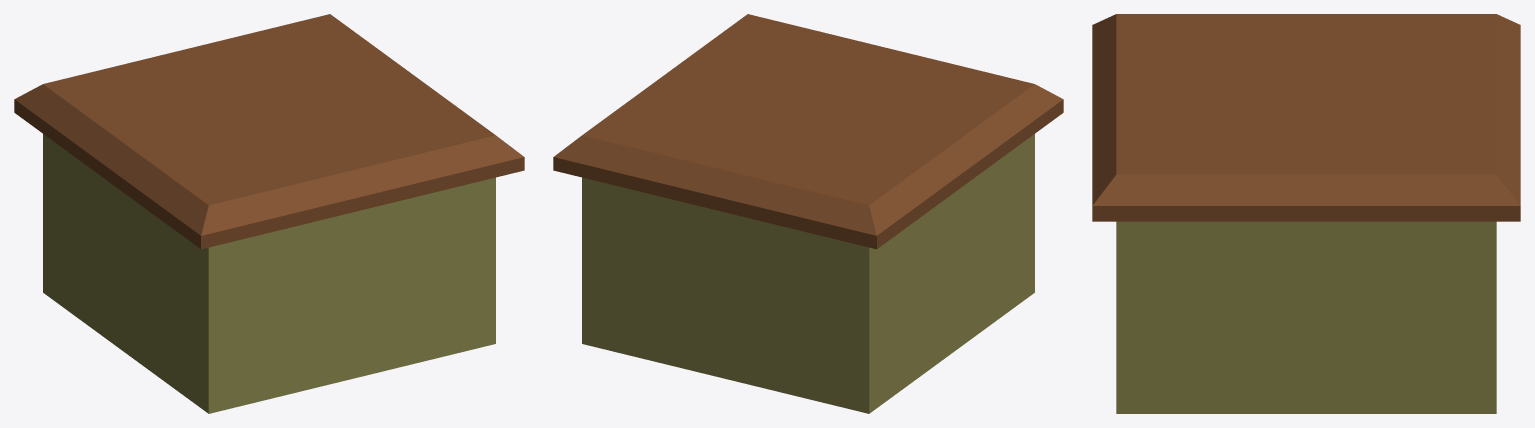
The model's file is Casa modelo 2.fbx.
3 renders of one model, left to right at view 1: azimuth 30°, elevation 25°; view 2: azimuth 150°, elevation 25°; view 3: azimuth 270°, elevation 25°, orthographic. The views are drawn at different scales.
Parts seen in each view (by area): view 1: pCube1; view 2: pCube1; view 3: pCube1.
Part boxes in pixels (box(x1,y1,x2,y2)): pCube1: box(14, 14, 524, 413); pCube1: box(553, 14, 1063, 413); pCube1: box(1092, 14, 1520, 413).
Bounding box in the file's own units: 15.57 × 9.6 × 15.57.
